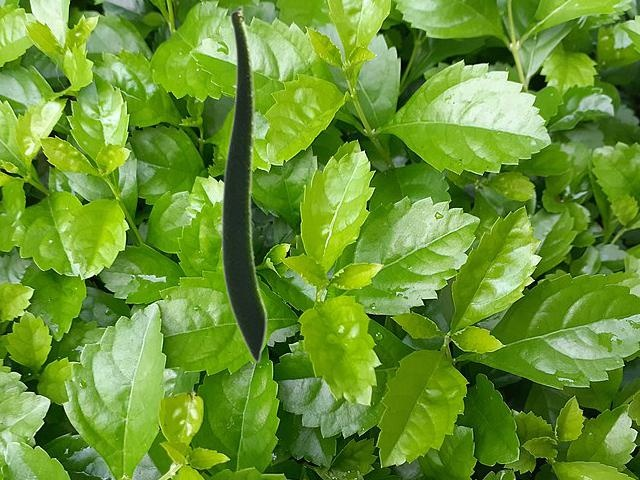french_bean: (220, 5, 267, 363)
